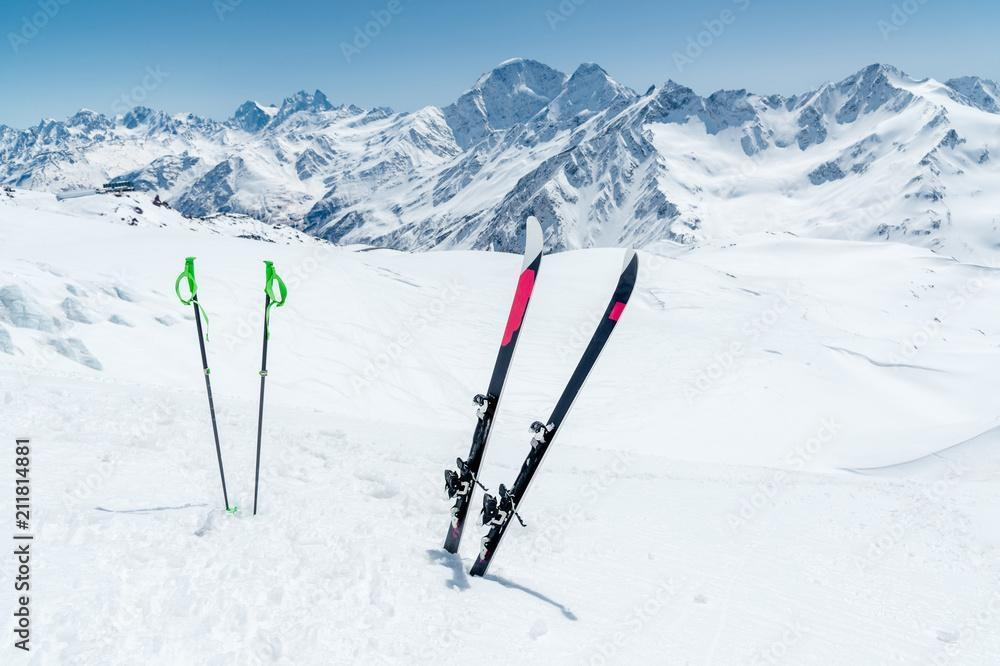Skis: (430, 198, 644, 596)
